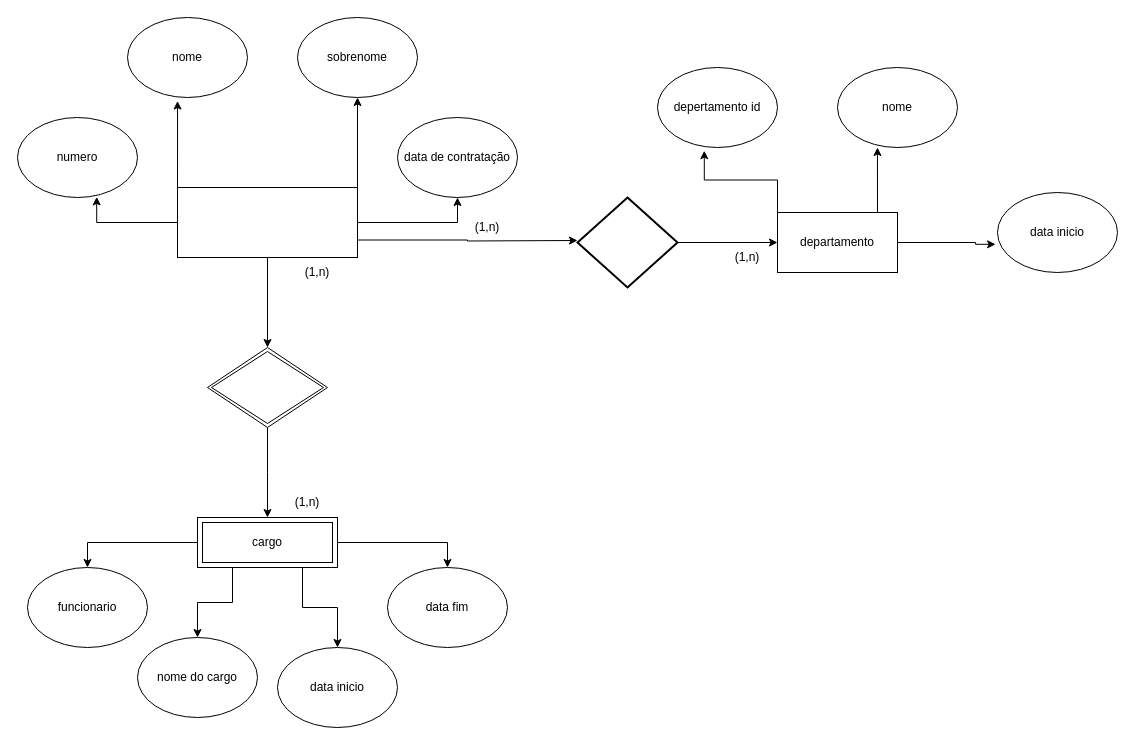
The diagram is 1135 pixels wide and 745 high, and some of its shapes have lost their labels. Each missing label, with the centre of its shape:
"funcionário" goes at point 267,222.
"oucupa" goes at point 267,387.
"trabalha" goes at point 627,242.
